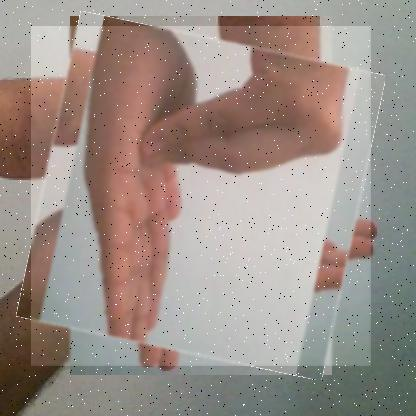Z: (31, 26, 372, 367)
